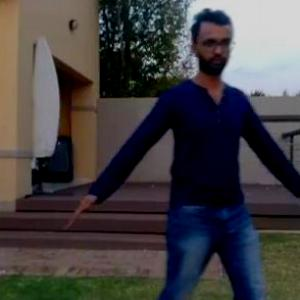land: (64, 28, 300, 299)
